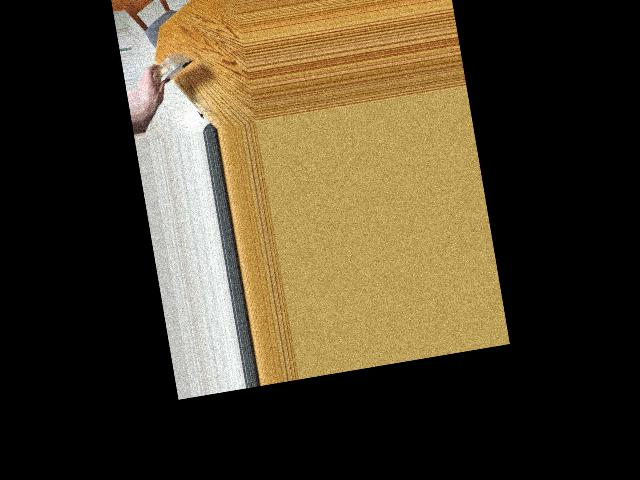cheese: (147, 51, 194, 85)
